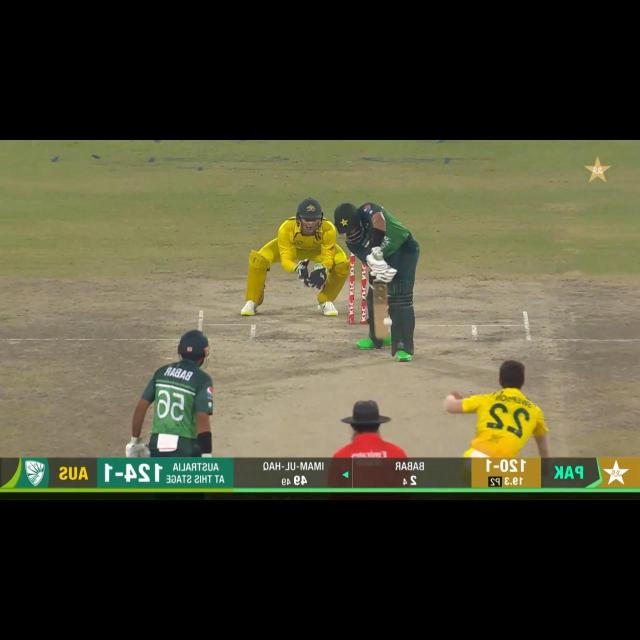bat: (369, 280, 392, 341)
toe: (370, 328, 393, 341)
